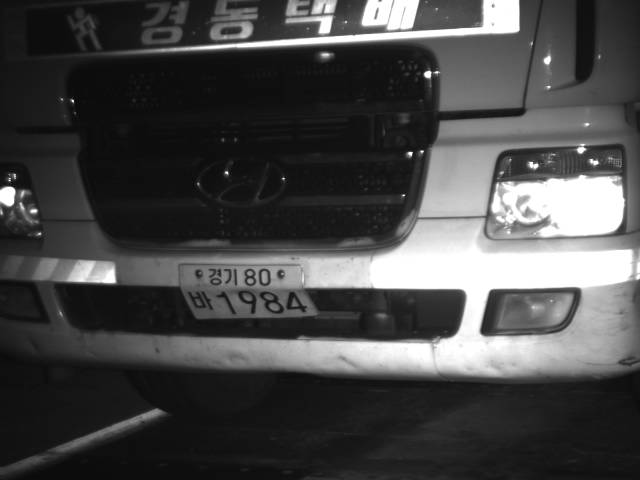car: (1, 1, 639, 417)
plate: (175, 261, 321, 326)
